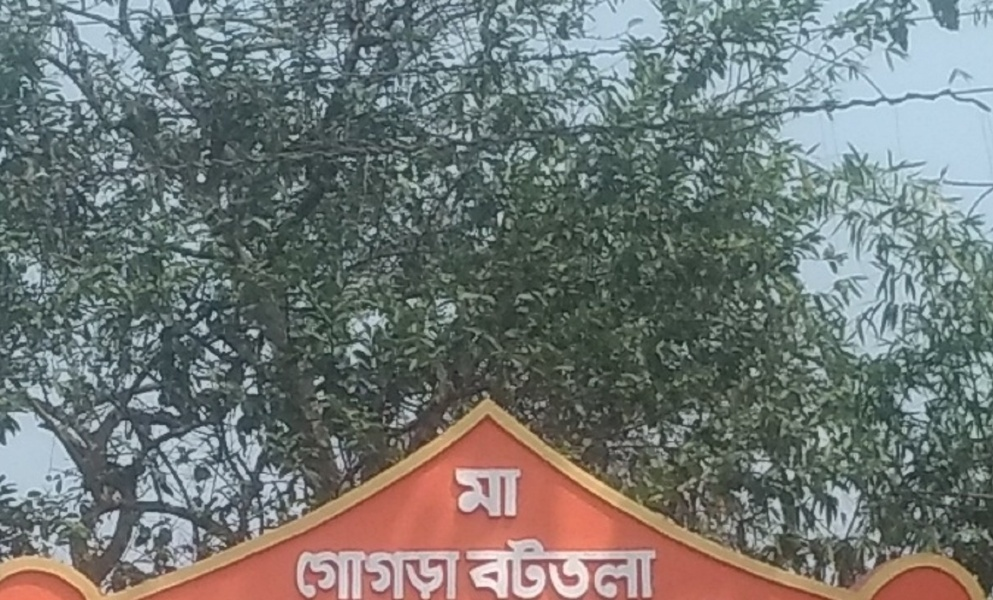text: (641, 538, 657, 600), (465, 538, 480, 600), (481, 538, 496, 600), (497, 538, 512, 600), (513, 538, 528, 600), (529, 538, 544, 600), (545, 538, 560, 600), (561, 538, 576, 600), (577, 538, 592, 600), (593, 538, 608, 600), (609, 538, 624, 600), (625, 538, 640, 600), (465, 465, 480, 520), (481, 465, 496, 520), (497, 465, 512, 520), (305, 548, 320, 600), (321, 548, 336, 600), (337, 548, 352, 600), (353, 548, 368, 600), (369, 548, 384, 600), (385, 548, 400, 600), (401, 548, 416, 600), (417, 548, 432, 600), (433, 548, 448, 600), (449, 548, 461, 600), (454, 465, 464, 520), (513, 465, 523, 520), (295, 548, 304, 600)
